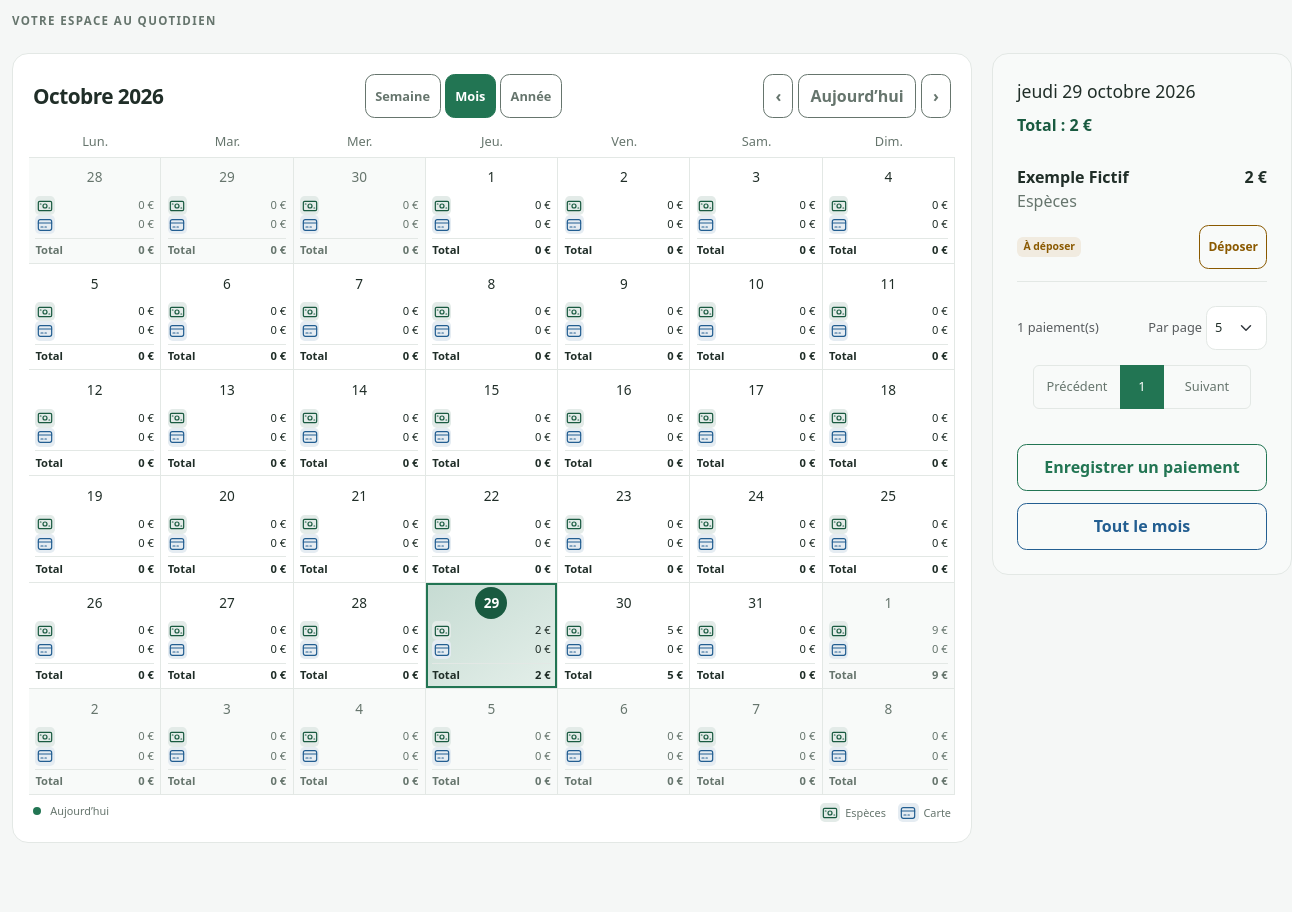
Test: le panneau suit le mois sélectionné au changement de vue sans clic supplémentaire
Check: the element named "Calendrier " is shown, box [29,157,955,794]
Check: the text "Total : 2 €" is shown, box [1017,114,1092,136]
Click the button "Année" at (531, 96), box [500,74,562,118]
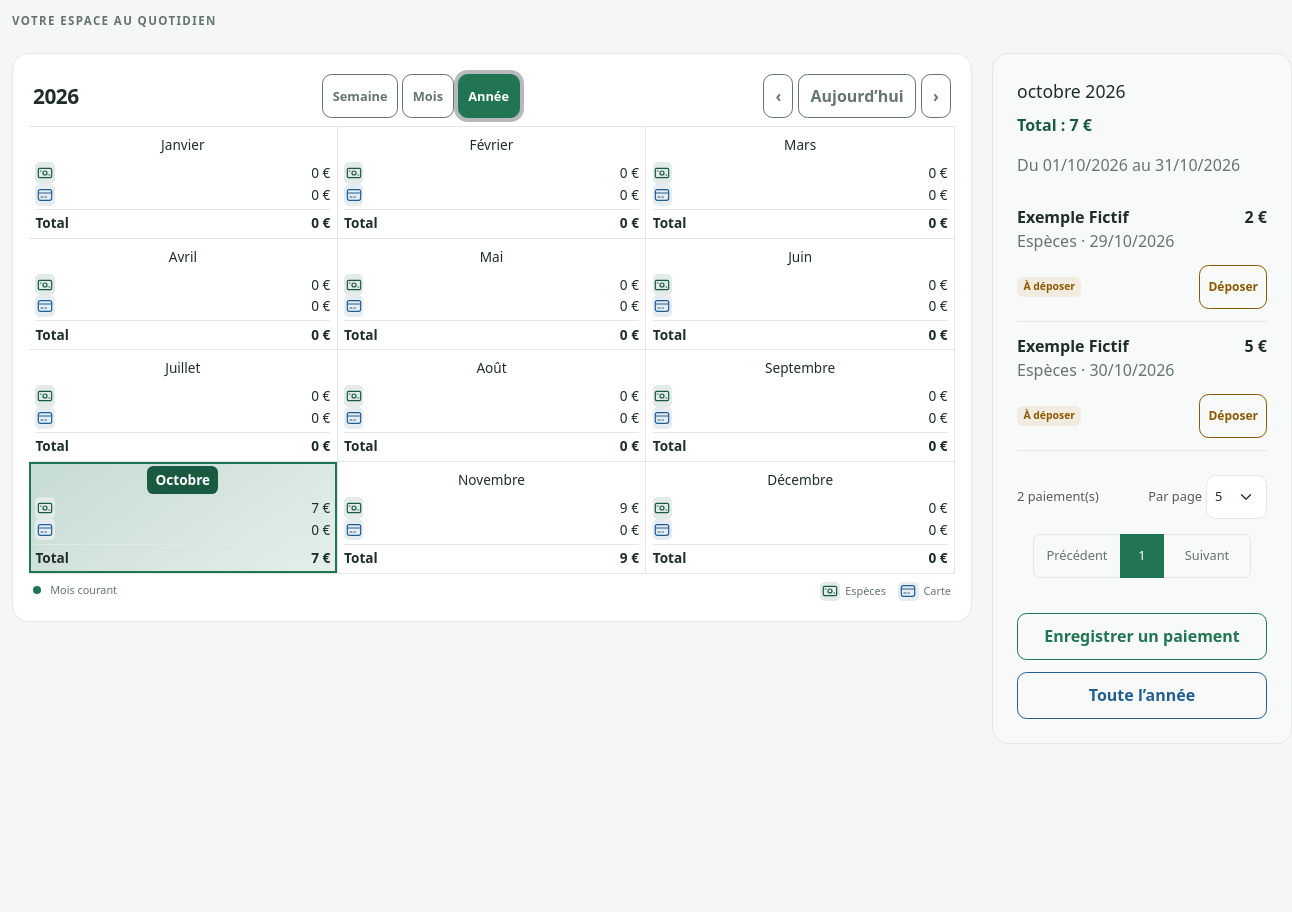
Check: the heading "octobre 2026" is shown, box [1017,79,1126,103]
Check: the text "Total : 7 €" is shown, box [1017,114,1092,136]
Click the button "Semaine" at (360, 96), box [322,74,398,118]
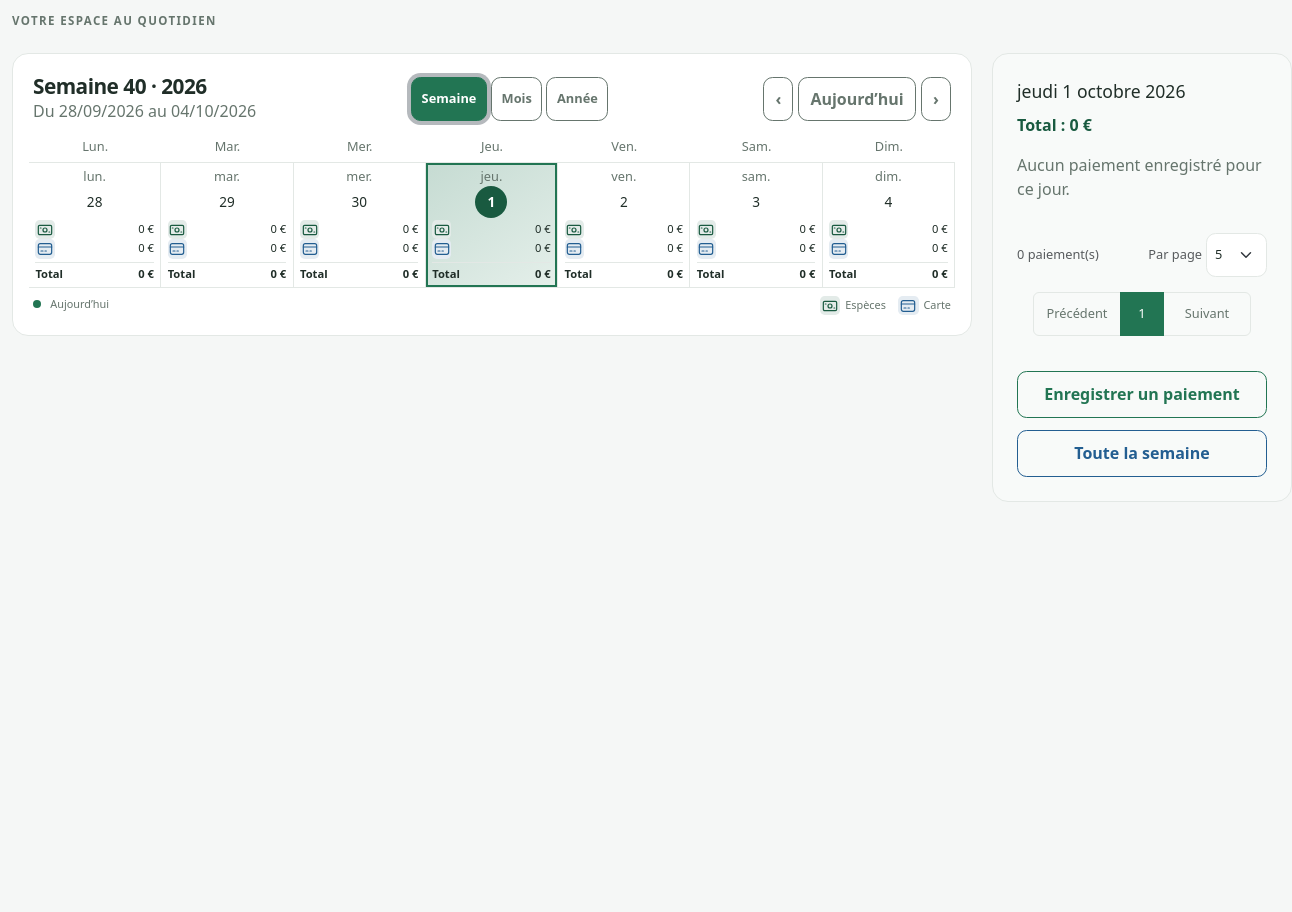
Check: the text "Total : 0 €" is shown, box [1017,114,1092,136]
Check: the heading "jeudi 1 octobre 2026" is shown, box [1017,79,1186,103]
